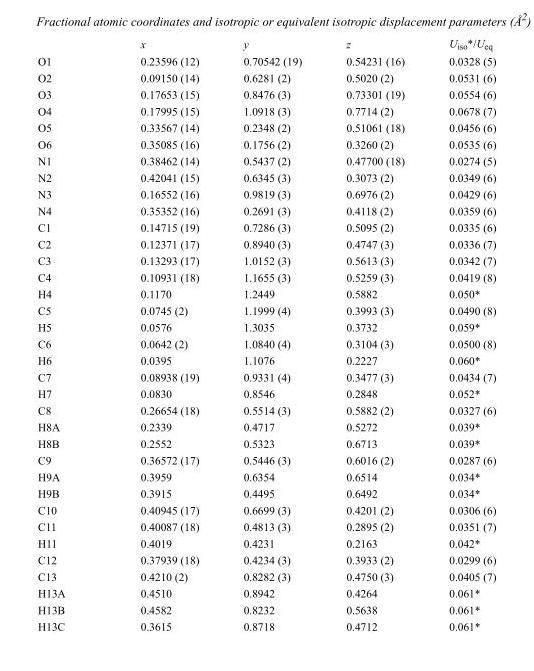table: (37, 36, 495, 632)
table column: (102, 36, 220, 632), (220, 36, 323, 632), (323, 36, 426, 632), (426, 36, 495, 632), (37, 36, 102, 632)
table column header: (37, 36, 495, 52)
table row: (37, 52, 495, 69), (37, 85, 495, 102), (37, 118, 495, 135), (37, 135, 495, 152), (37, 168, 495, 185), (37, 185, 495, 202), (37, 218, 495, 235), (37, 251, 495, 268), (37, 268, 495, 285), (37, 301, 495, 318), (37, 318, 495, 335), (37, 351, 495, 368), (37, 384, 495, 401), (37, 401, 495, 418), (37, 434, 495, 451), (37, 451, 495, 468), (37, 484, 495, 501), (37, 517, 495, 534), (37, 534, 495, 551), (37, 567, 495, 584), (37, 584, 495, 601), (37, 36, 495, 52), (37, 69, 495, 85), (37, 102, 495, 118), (37, 152, 495, 168), (37, 202, 495, 218), (37, 235, 495, 251), (37, 285, 495, 301), (37, 335, 495, 351), (37, 368, 495, 384), (37, 418, 495, 434), (37, 468, 495, 484), (37, 501, 495, 517), (37, 551, 495, 567), (37, 601, 495, 617), (37, 617, 495, 632)
